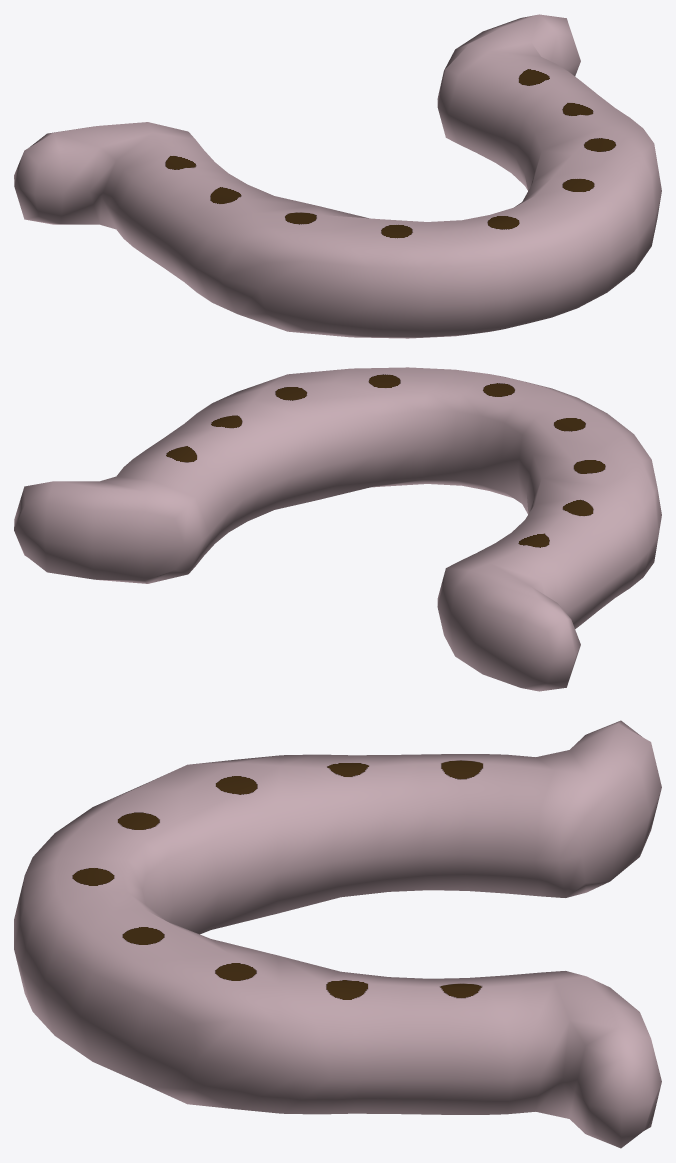
The model's file is fer à cheval.fbx.
3 renders of one model, top to bottom at view 1: azimuth 30°, elevation 25°; view 2: azimuth 150°, elevation 25°; view 3: azimuth 270°, elevation 25°, orthographic. The views are drawn at different scales.
Visible parts, largest first — view 1: Plane005; view 2: Plane005; view 3: Plane005.
Part boxes in pixels (bbox=[...]): Plane005: bbox=[14, 14, 661, 338]; Plane005: bbox=[14, 367, 661, 691]; Plane005: bbox=[14, 720, 661, 1148].
Size of the model in its own units: 66.21 by 10.37 by 51.58.
